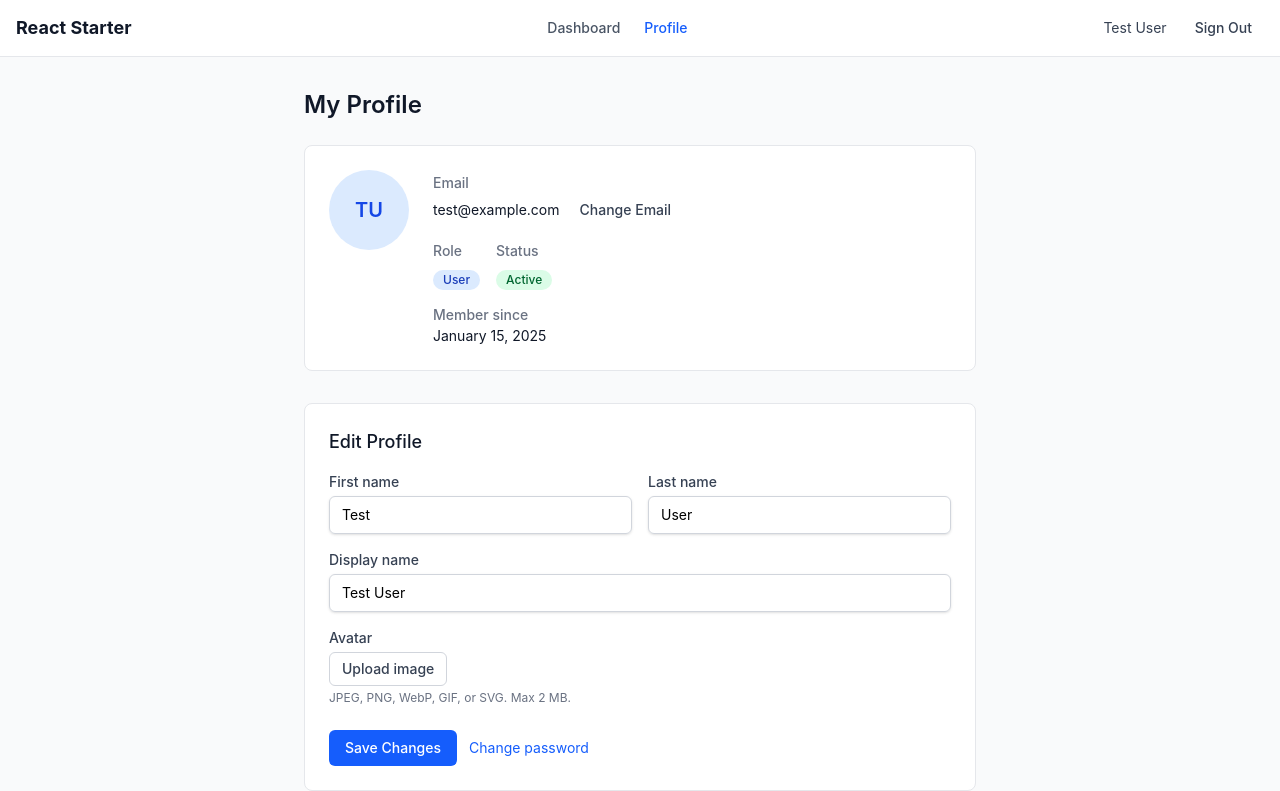
Test case: ProfilePage › shows server error on API failure
Click the button "Save Changes" at (393, 748), box [329,730,457,766]
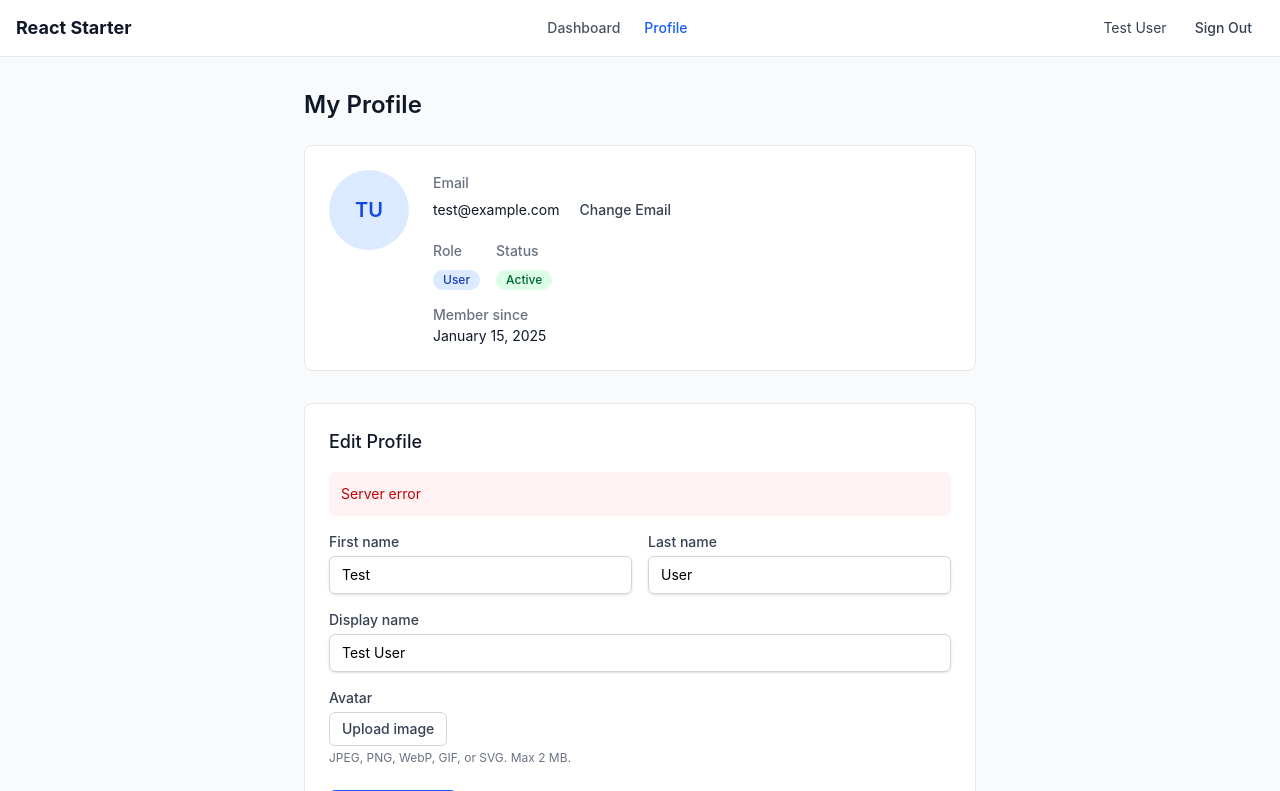
expect the text "Server error" is shown: met, box [341,485,421,502]
